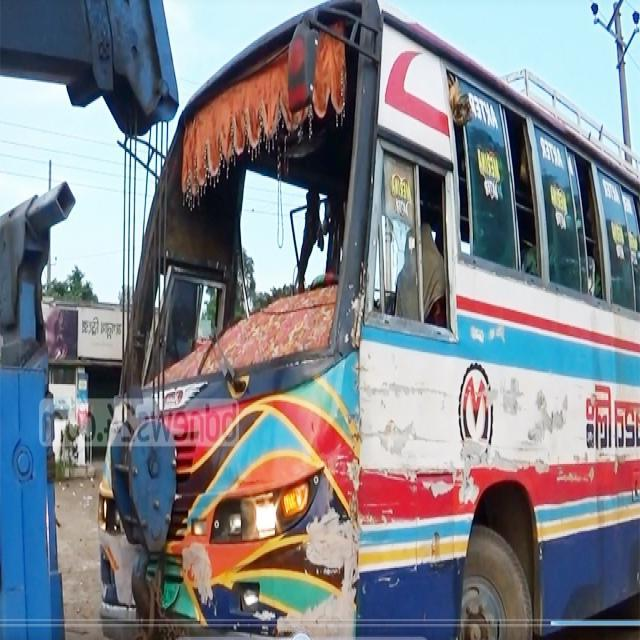Bus: (96, 1, 638, 640)
